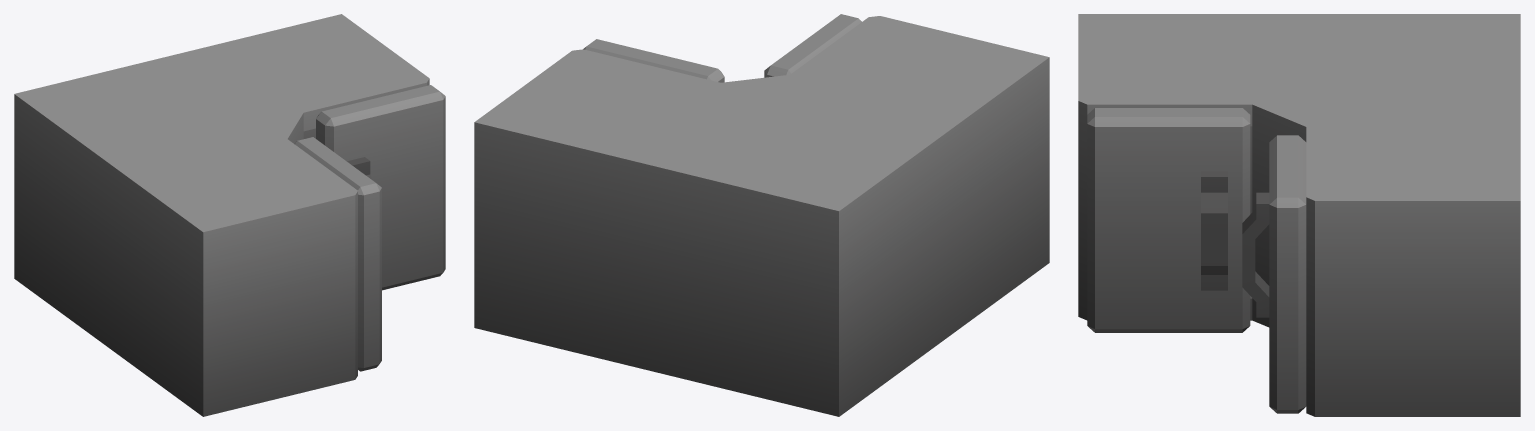
The model's file is Cabinet_01_Corner.fbx.
3 renders of one model, left to right at view 1: azimuth 30°, elevation 25°; view 2: azimuth 150°, elevation 25°; view 3: azimuth 270°, elevation 25°, orthographic. The views are drawn at different scales.
Visible parts, largest first — view 1: Cabinet_01_Corner, Cabinet_01_Corner_Door_L, Cabinet_01_Corner_Door_R; view 2: Cabinet_01_Corner, Cabinet_01_Corner_Door_R, Cabinet_01_Corner_Door_L; view 3: Cabinet_01_Corner, Cabinet_01_Corner_Door_R, Cabinet_01_Corner_Door_L.
Part boxes in pixels (x1,y1,x2,y2): Cabinet_01_Corner: (14, 14, 429, 416); Cabinet_01_Corner_Door_L: (316, 85, 445, 290); Cabinet_01_Corner_Door_R: (294, 137, 381, 371); Cabinet_01_Corner: (474, 16, 1049, 416); Cabinet_01_Corner_Door_R: (764, 14, 861, 77); Cabinet_01_Corner_Door_L: (583, 39, 724, 82); Cabinet_01_Corner: (1078, 14, 1520, 416); Cabinet_01_Corner_Door_R: (1087, 108, 1250, 332); Cabinet_01_Corner_Door_L: (1242, 135, 1306, 413).
Size of the model in its own units: 100 by 53.91 by 100.
